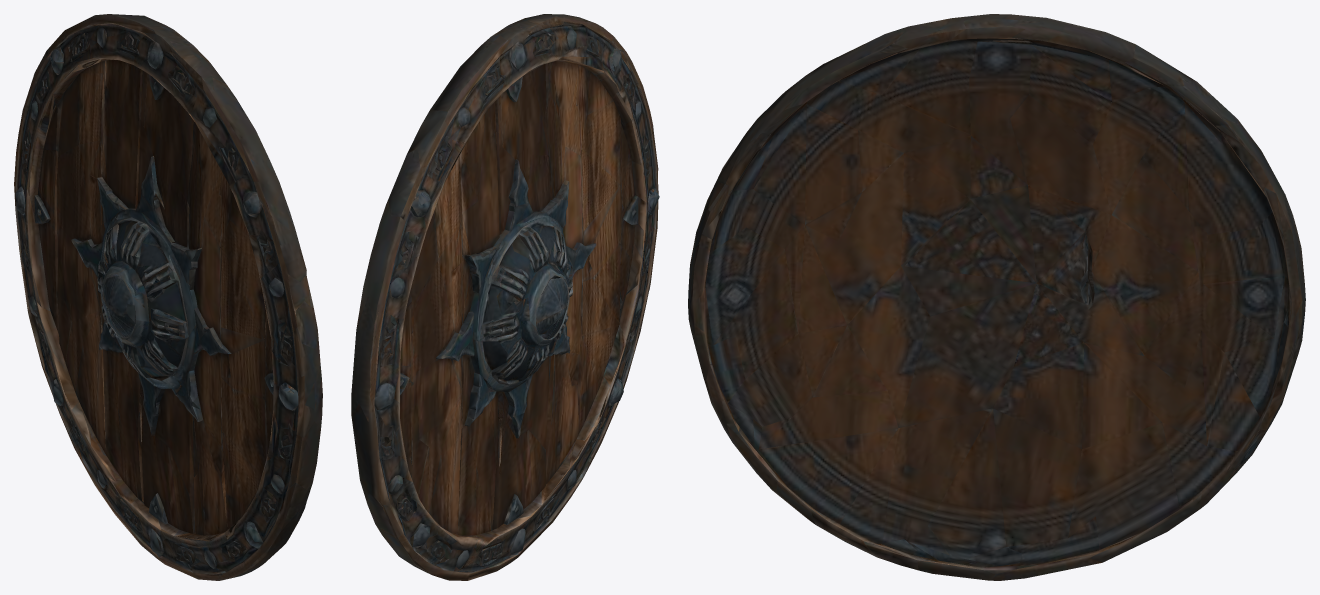
Rendered from shield-round.glb.
The picture shows the model from 3 angles, left to right: view 1: azimuth 30°, elevation 25°; view 2: azimuth 150°, elevation 25°; view 3: azimuth 270°, elevation 25°; orthographic projection. The views are drawn at different scales.
Bounding box in the file's own units: 0.07 × 0.5005 × 0.5005.
Materials: 1 (1 with a texture image).
